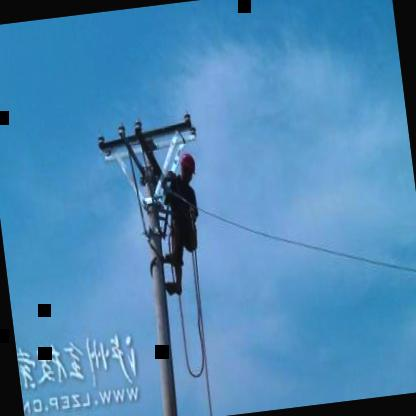helmet: (176, 148, 198, 184)
